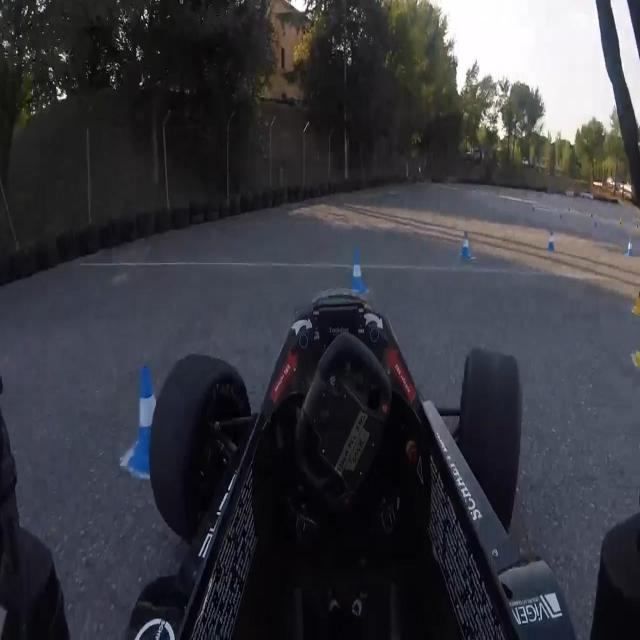blue_cone: (126, 364, 169, 482), (350, 248, 367, 301), (459, 226, 473, 268), (623, 235, 634, 261), (546, 228, 555, 258)
yellow_cone: (631, 281, 640, 318), (633, 331, 640, 369)
